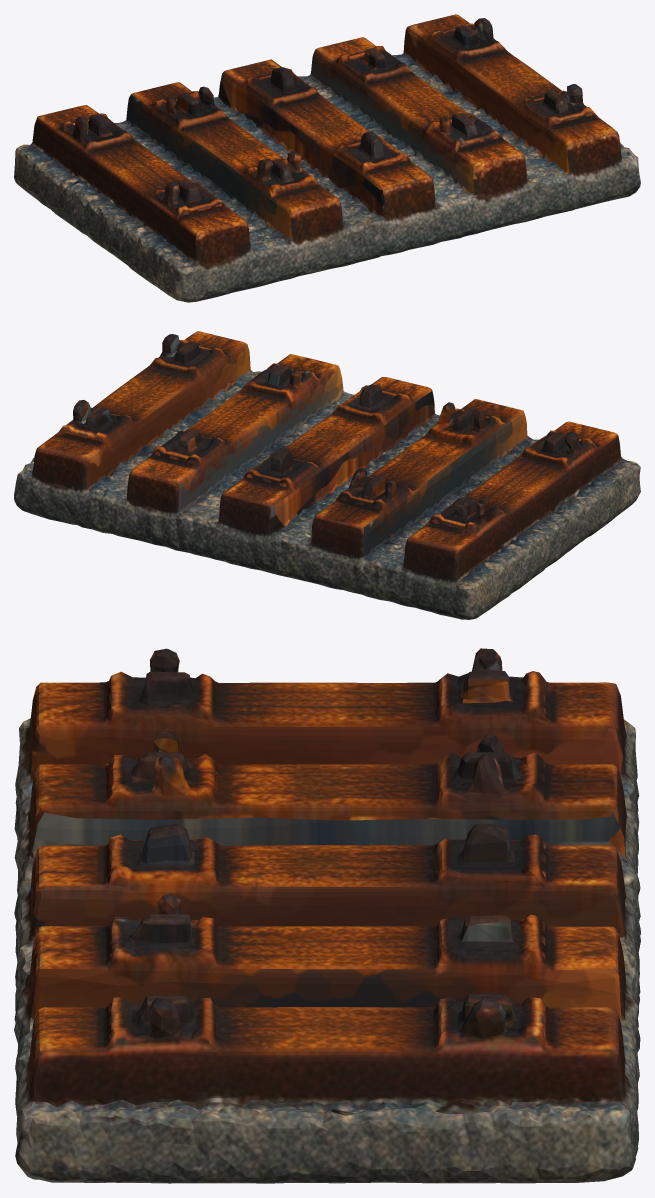
The model's file is rail_ballast_1117.glb.
The picture shows the model from 3 angles, top to bottom: view 1: azimuth 30°, elevation 25°; view 2: azimuth 150°, elevation 25°; view 3: azimuth 270°, elevation 25°; orthographic projection. The views are drawn at different scales.
Visible parts, largest first — view 1: tmpovq71v0l.ply; view 2: tmpovq71v0l.ply; view 3: tmpovq71v0l.ply.
Boxes of the visible parts, x1,y1,x2,y2 form: tmpovq71v0l.ply: (14,14,640,302); tmpovq71v0l.ply: (14,331,640,619); tmpovq71v0l.ply: (14,648,640,1183).
Size of the model in its own units: 5.47 by 1 by 3.51.
Materials: 1 (1 with a texture image).
